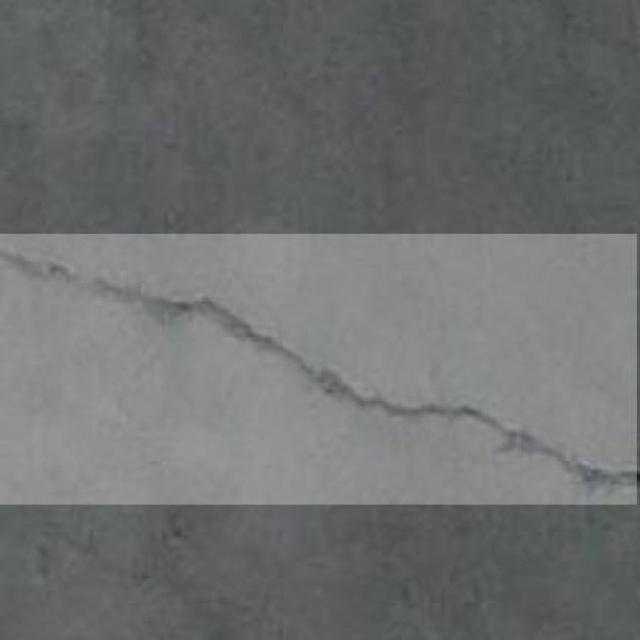Crack: (9, 231, 638, 497)
